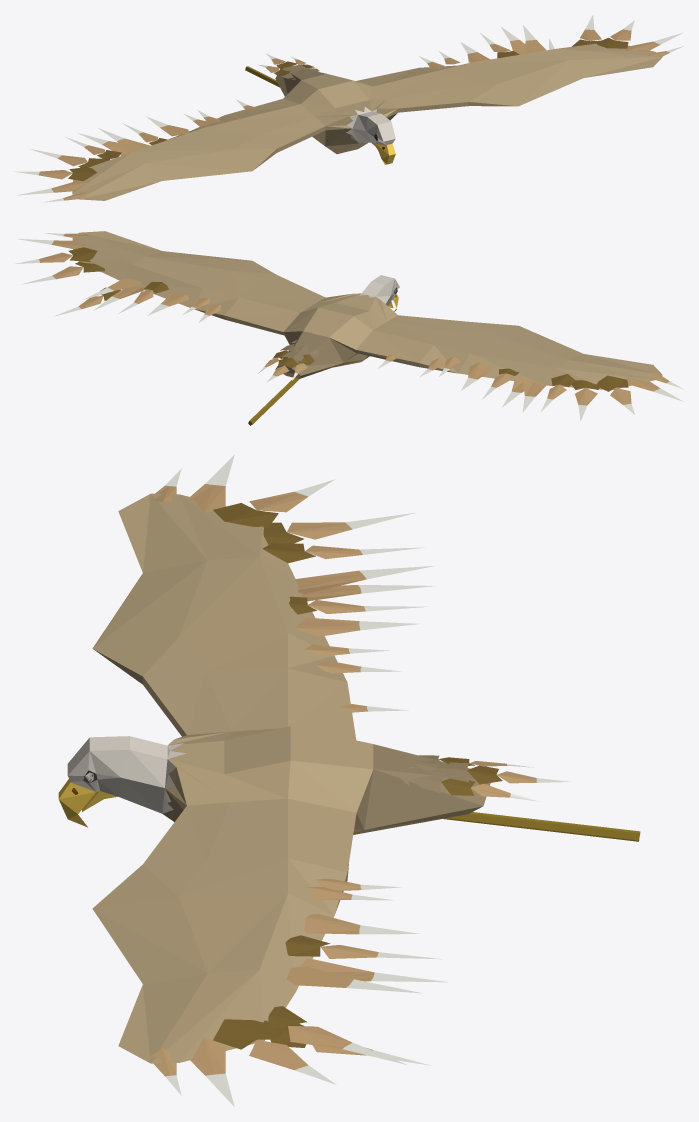
File: eagle-transport.gltf
The picture shows the model from 3 angles, top to bottom: view 1: azimuth 30°, elevation 25°; view 2: azimuth 150°, elevation 25°; view 3: azimuth 270°, elevation 25°; orthographic projection. The views are drawn at different scales.
Bounding box in the file's own units: 1193 × 97 × 449.
Materials: 1 (1 with a texture image).
